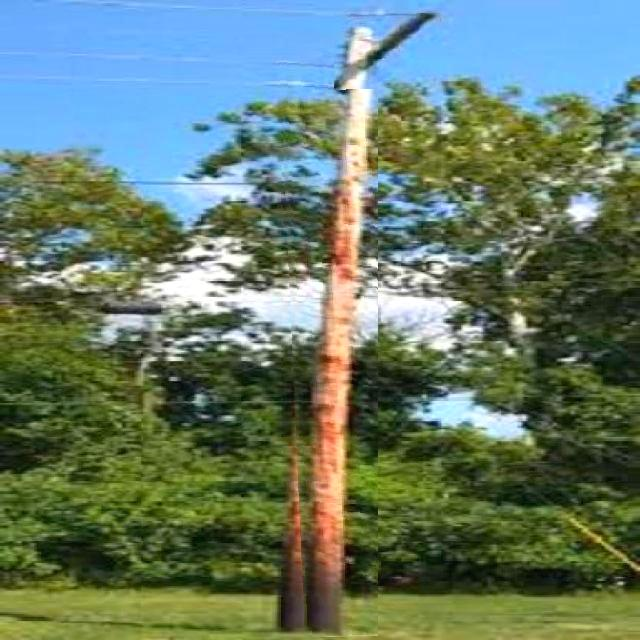crossarm: (334, 13, 441, 90)
pole: (299, 35, 378, 636)
